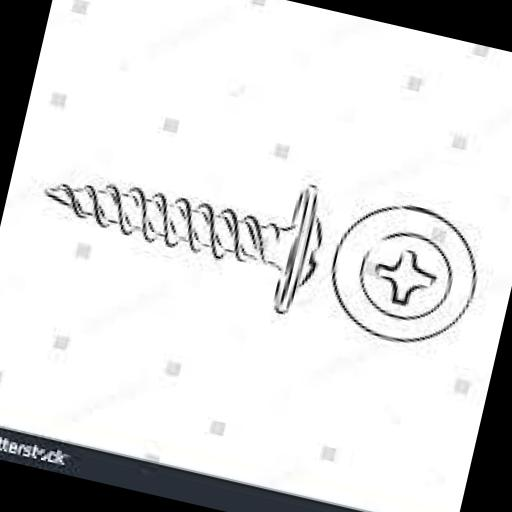Phillips: (320, 184, 490, 359)
